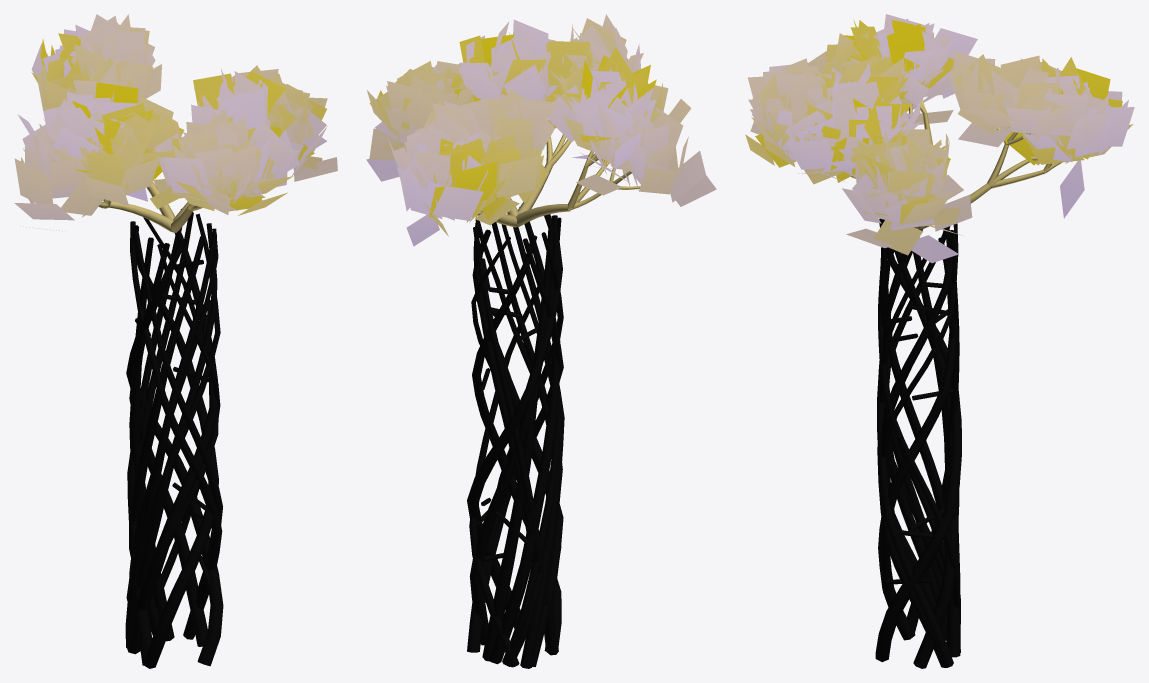
Rendered from strangler_fig.glb.
The picture shows the model from 3 angles, left to right: view 1: azimuth 30°, elevation 25°; view 2: azimuth 150°, elevation 25°; view 3: azimuth 270°, elevation 25°; orthographic projection.
Visible parts, largest first — view 1: strangler_fig; view 2: strangler_fig; view 3: strangler_fig.
Part boxes in pixels (<box>): strangler_fig: <box>14,14,337,668</box>; strangler_fig: <box>366,14,716,668</box>; strangler_fig: <box>745,14,1134,668</box>.
Size of what is drawn, in the model's own units: 7.64 by 13.29 by 7.79.
